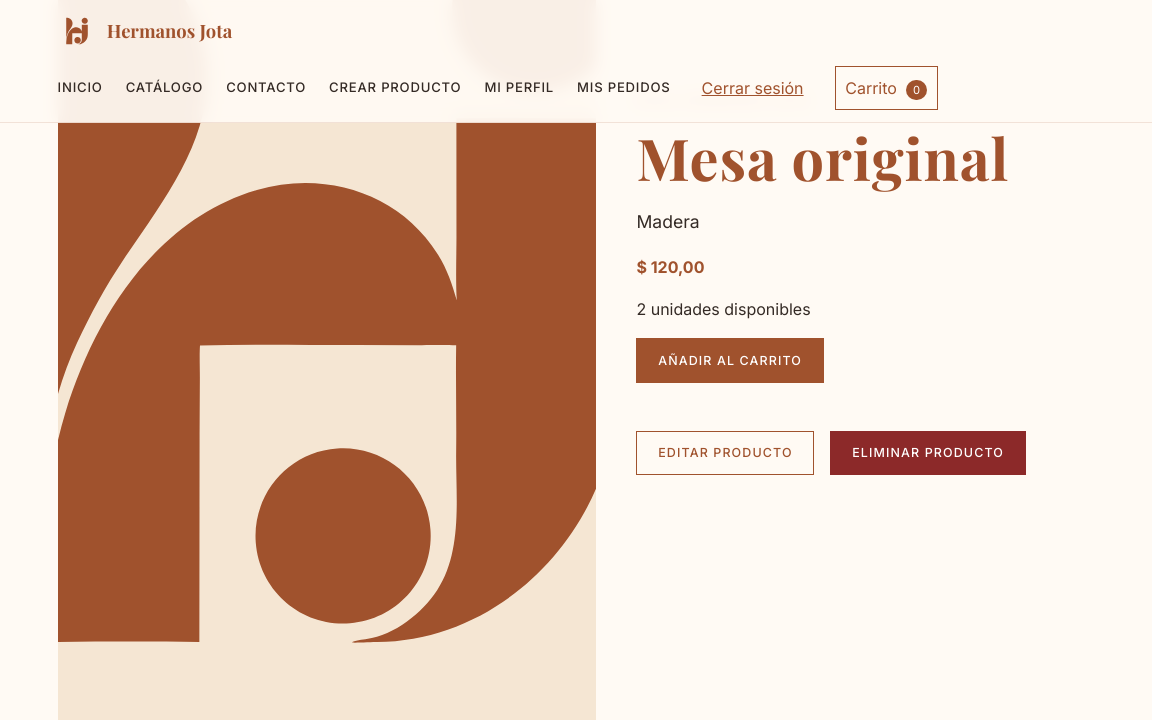
Scenario: borrado 204 limpia catálogo y carrito, envía Bearer y vuelve al catálogo
(page scrolled)
Expected: the heading "Mesa original" is shown, [636,119,1009,195]
Click the button "Añadir al carrito": (730, 361) [636,338,824,383]
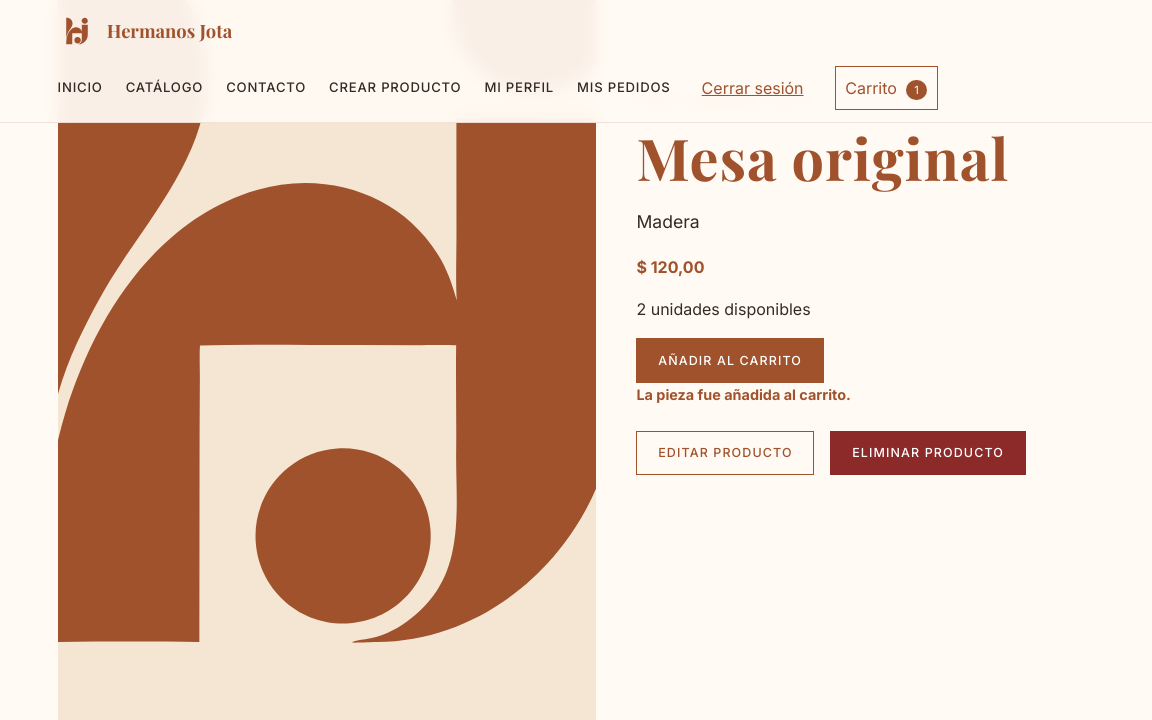
Click the button "Eliminar producto": (928, 453) [830,431,1026,475]
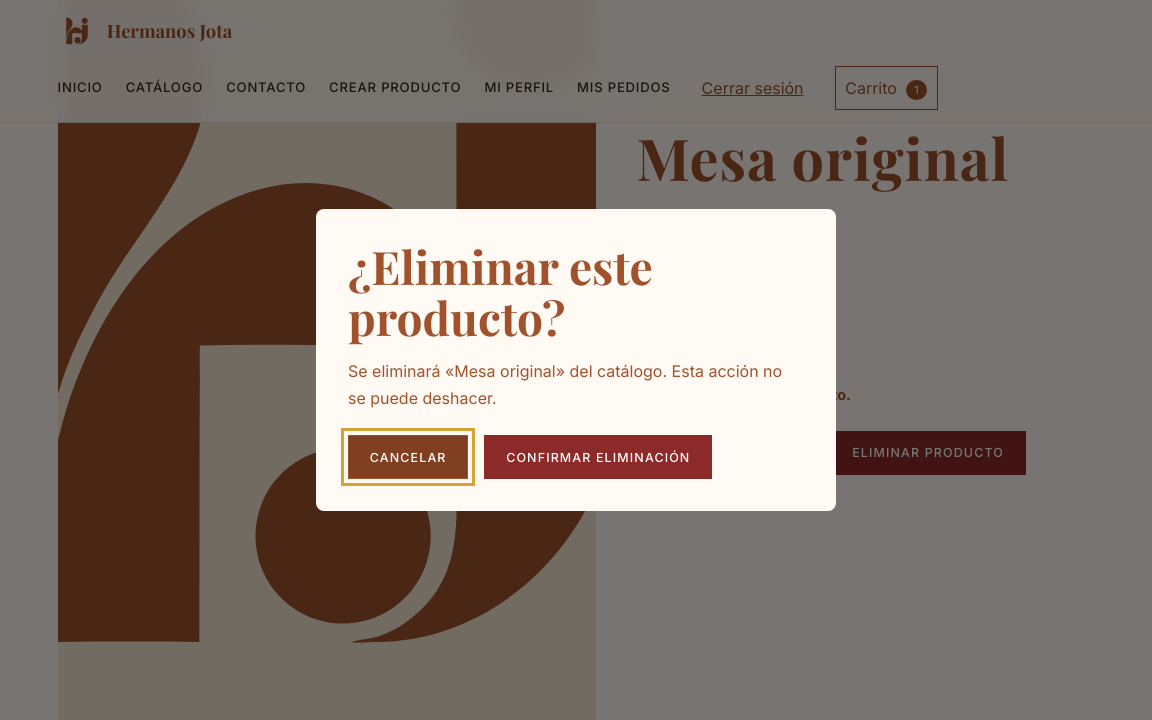
Click the button "Confirmar eliminación": (598, 457) [484,435,712,479]
(page scrolled)
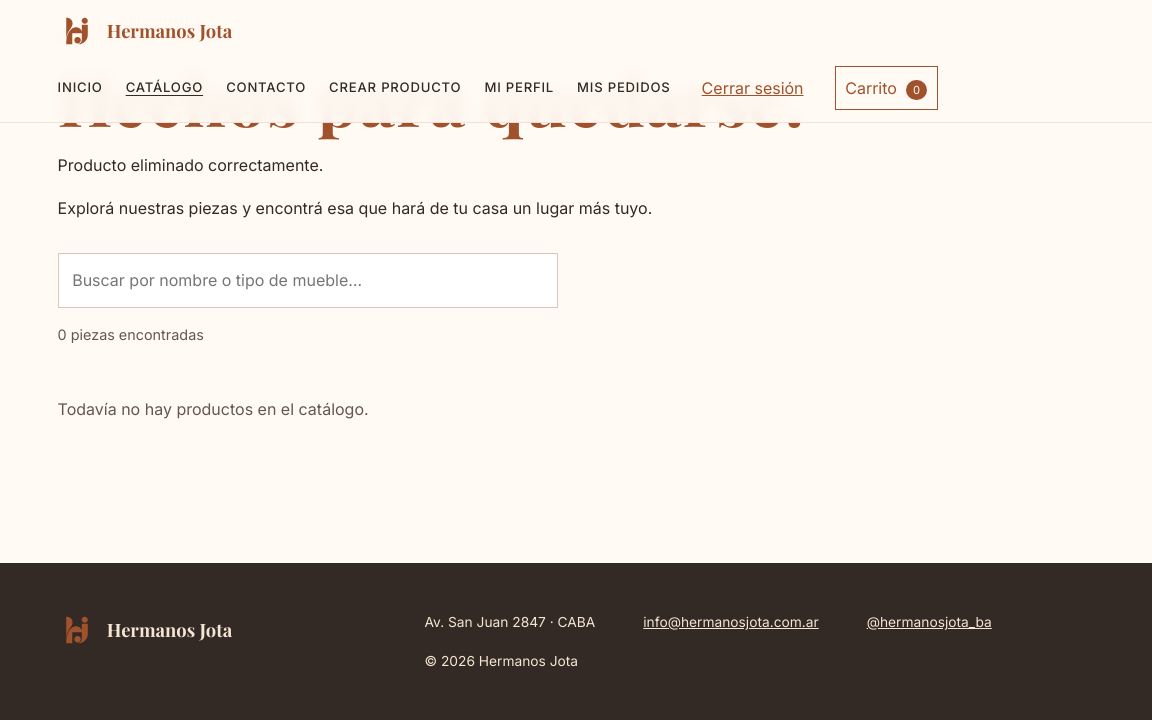
Expected: the text "Producto eliminado correctamente." is shown, [58,155,323,175]
Expected: the heading "Mesa original" is gone
Click the button "Carrito 0": (886, 88) [835,66,938,110]
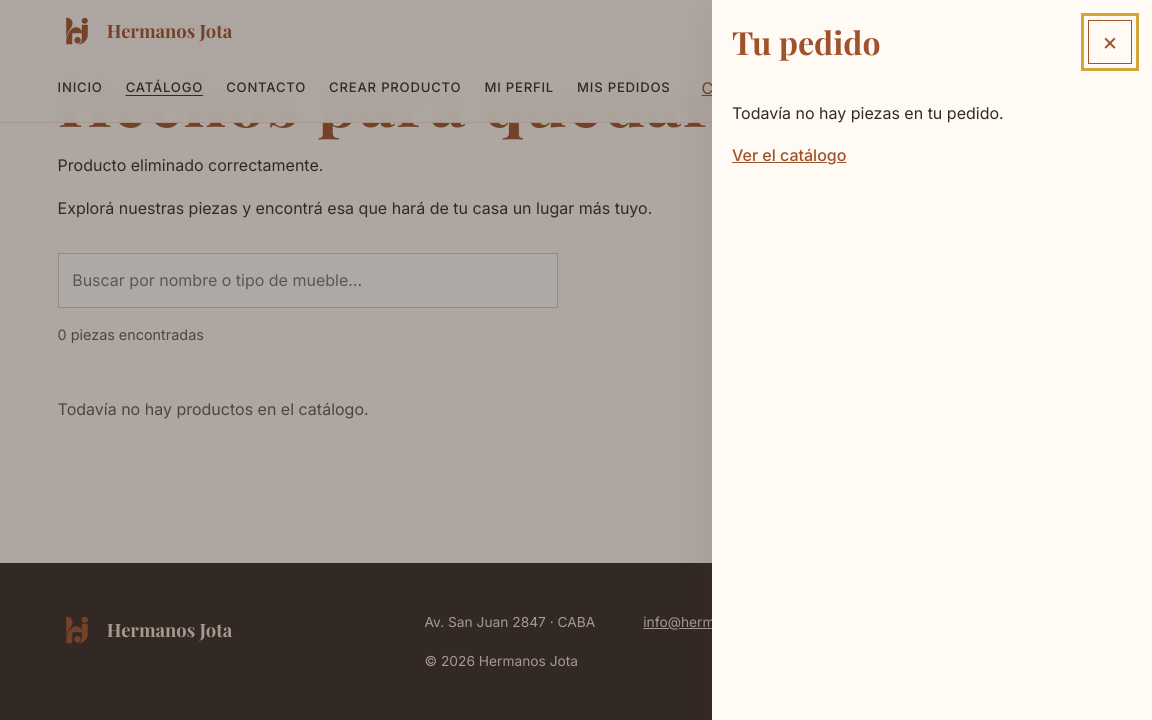
Expected: the text "Todavía no hay piezas en tu pedido." is shown, [732,103,1004,123]
